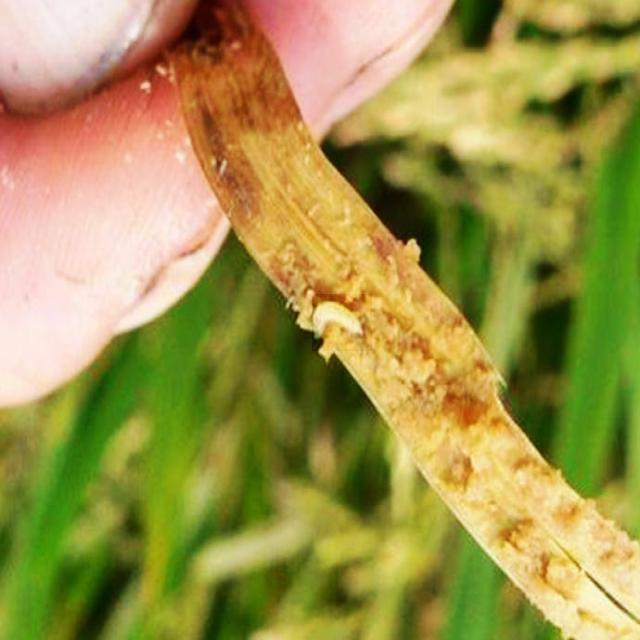whorl-maggot: (312, 294, 372, 351)
